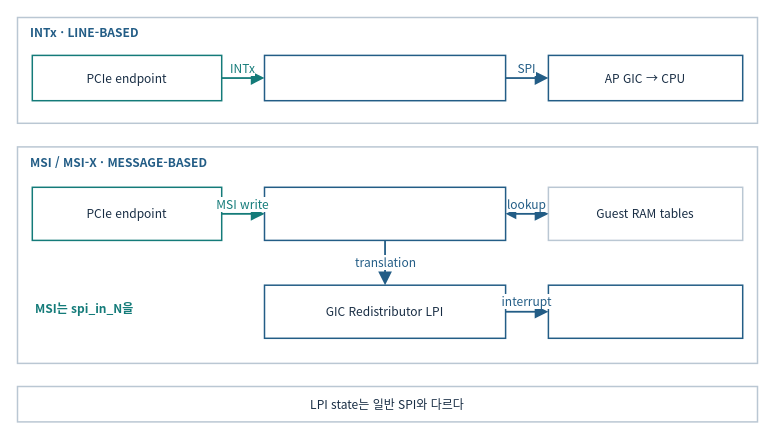
The diagram is 776 pixels wide and 440 high, and some of its shapes have lost their labels. Each missing label, with the centre of its shape:
"AP ITS / GITS_TRANSLATER" goes at pixel 384 213.
"ap_gpex_0.irq_out_0..3" goes at pixel 384 77.
"CPU → Linux MSI handler" goes at pixel 645 311.
